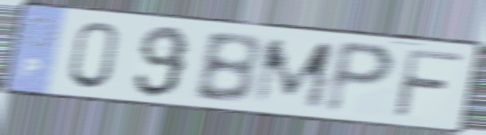0: (67, 20, 122, 92)
9: (132, 23, 191, 101)
B: (190, 31, 264, 106)
F: (390, 46, 468, 121)
M: (249, 37, 338, 111)
P: (320, 37, 400, 117)
